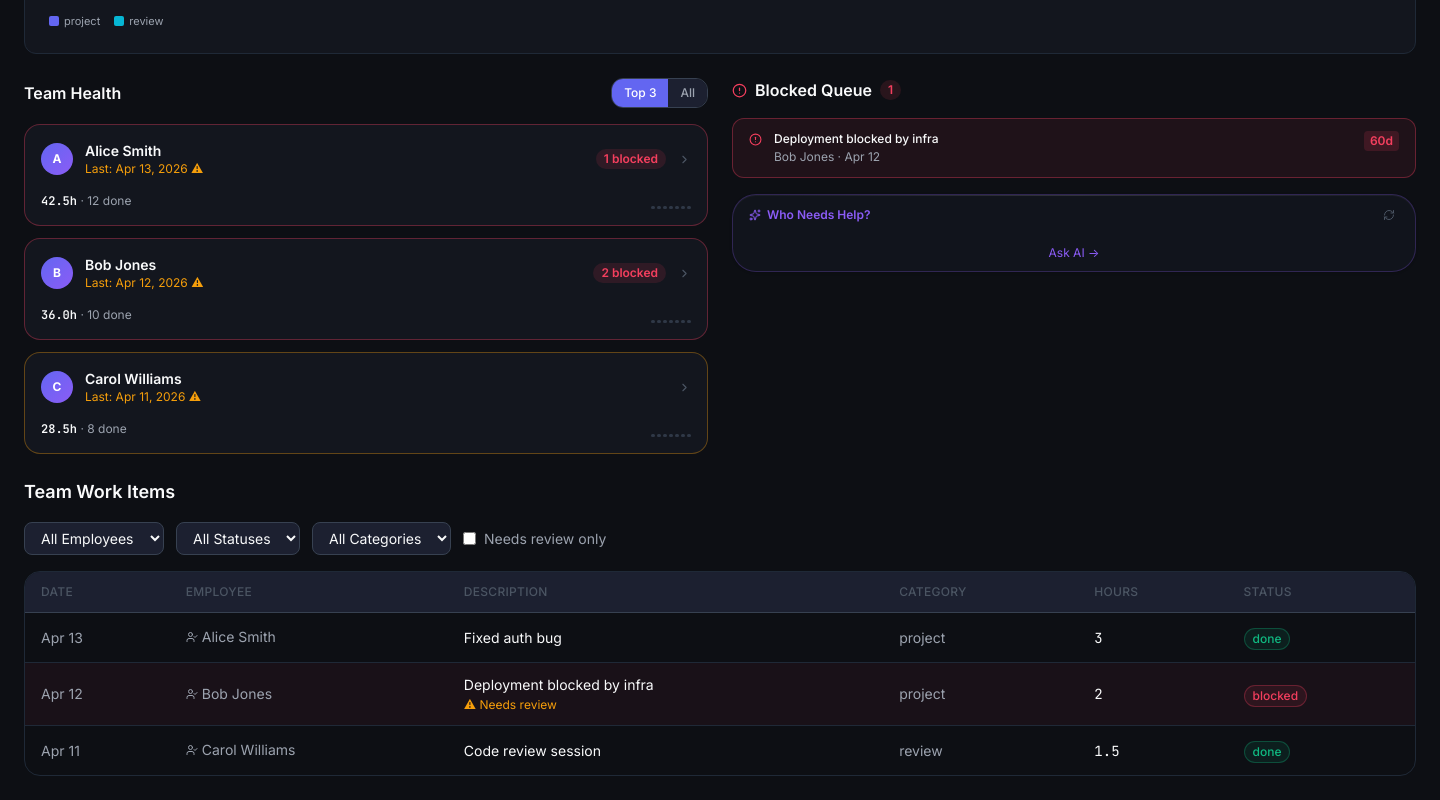
TeamDashboardPage — table employee filter › filtering table by employee hides other employees items
(page scrolled)
Check: the text "Fixed auth bug" is shown, box [464, 628, 562, 646]
Select "Alice Smith" in the dropdown named "filter table by employee" at (94, 538), box [24, 522, 164, 555]
(page scrolled)
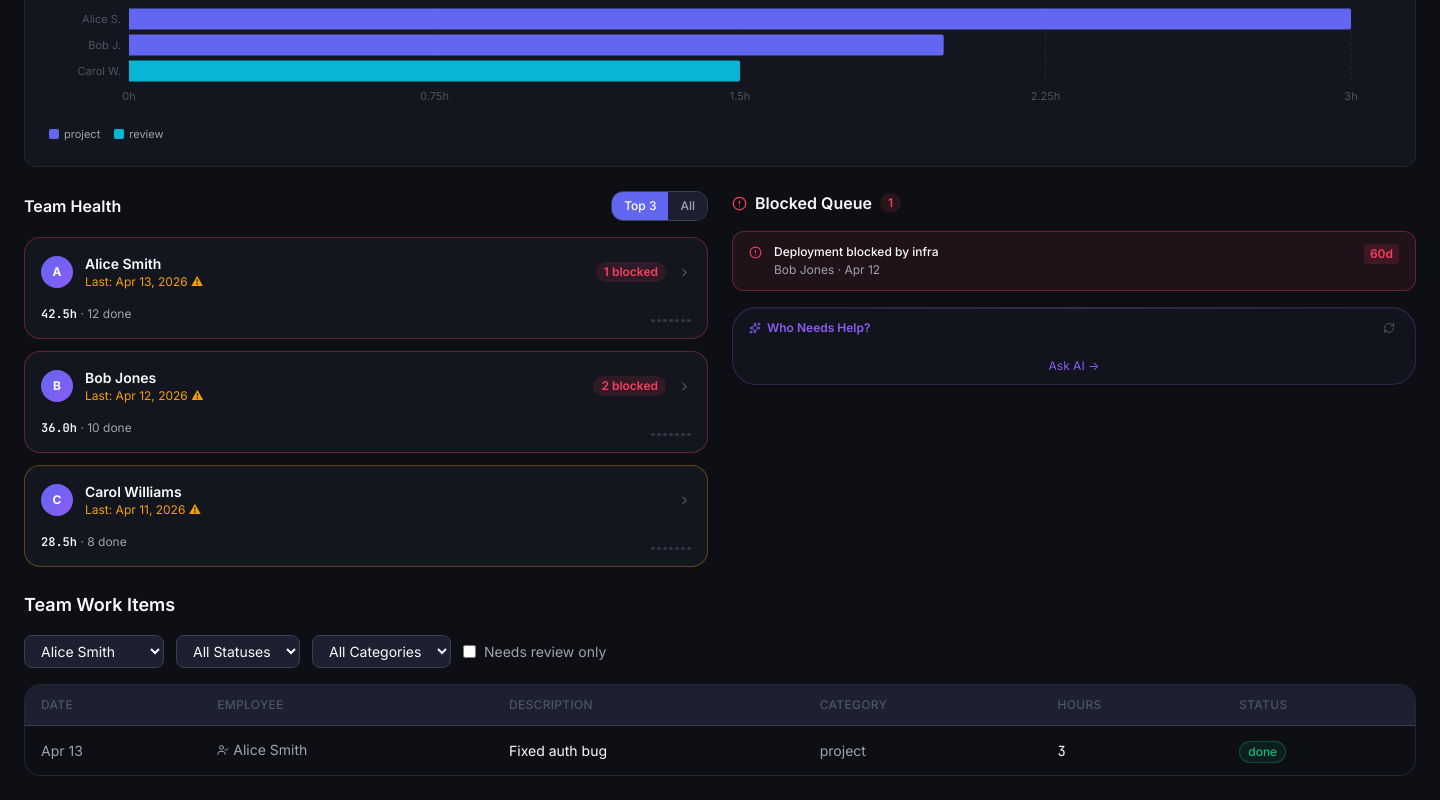
Check: the text "Fixed auth bug" is shown, box [509, 742, 607, 758]
Check: the text "Code review session" is gone
